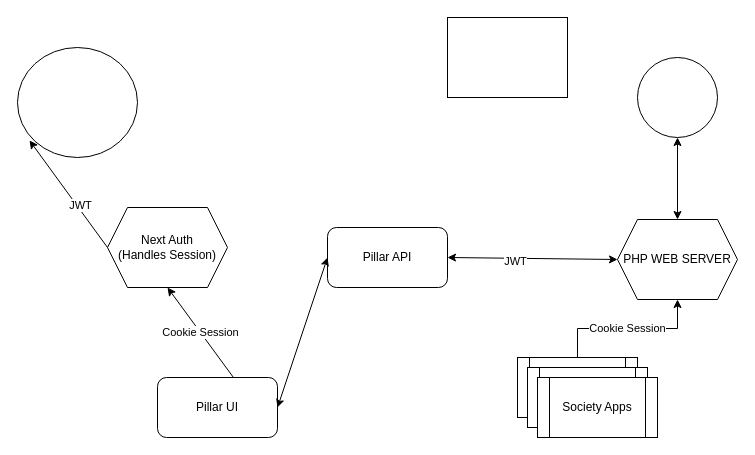
This 755x455 diagram has some shape labels left out. The centre of each missing label's shape, as x and y in pixels:
"Cognito AZ B2C Key Cloak Red Hat SSO Go True" belongs at (x=507, y=57).
"Customer OAuth Provider" belongs at (x=677, y=97).
"o365 Oauth Provider Server" belongs at (x=77, y=102).
